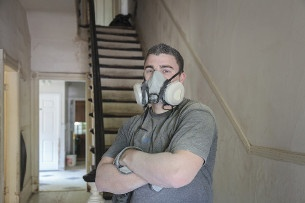Mask: (141, 63, 179, 100)
